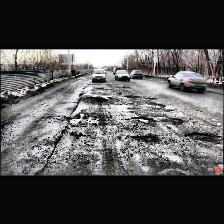pothole: (185, 130, 223, 141), (134, 114, 152, 122), (139, 134, 157, 142), (168, 116, 184, 124), (124, 93, 139, 98), (156, 102, 166, 106), (144, 97, 155, 99)
